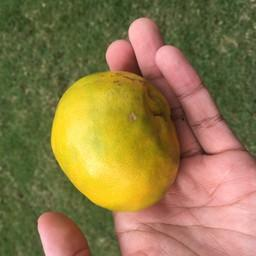Good_orange: (49, 69, 184, 209)
